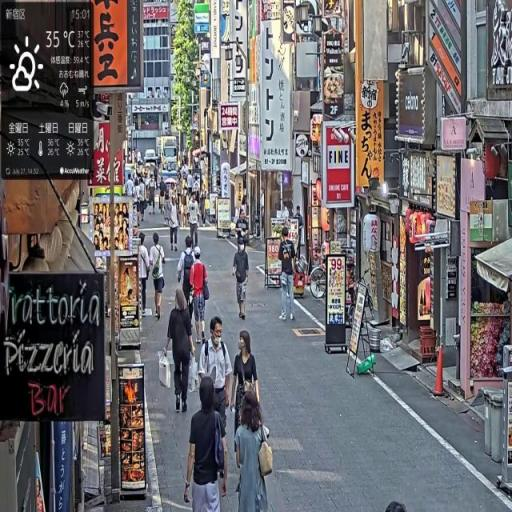person: (185, 376, 229, 512), (235, 390, 273, 512), (198, 316, 233, 444), (163, 288, 197, 416), (191, 246, 211, 350), (232, 239, 251, 321), (151, 231, 168, 322), (178, 237, 197, 314), (138, 233, 152, 320), (188, 193, 201, 252), (169, 196, 181, 256)
